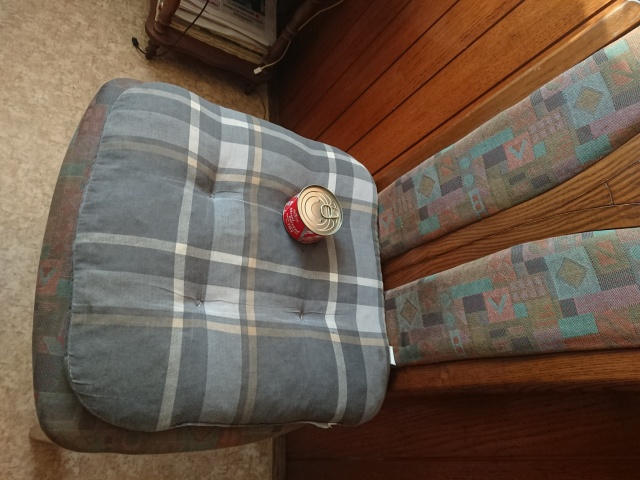Podravka Luncheon Meat 150g: (280, 181, 345, 248)
